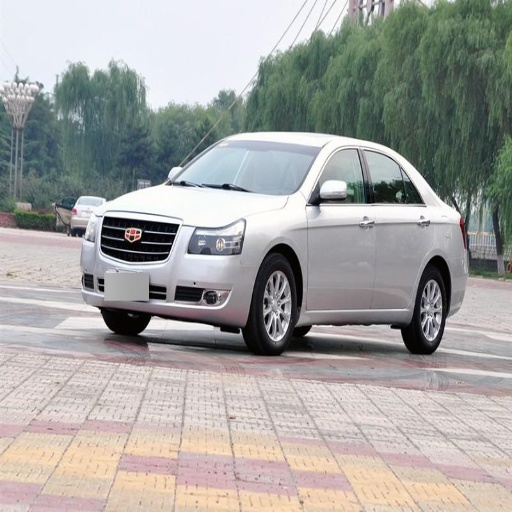front_bumper: (80, 211, 262, 325)
front_glass: (170, 140, 320, 195)
front_left_door: (307, 145, 377, 309)
